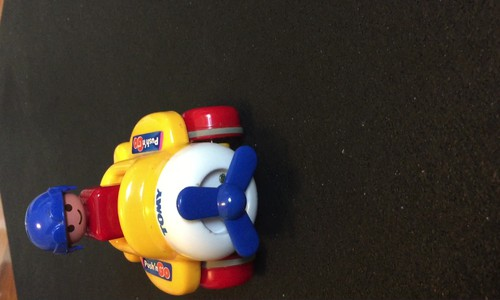toy: (24, 100, 272, 294)
